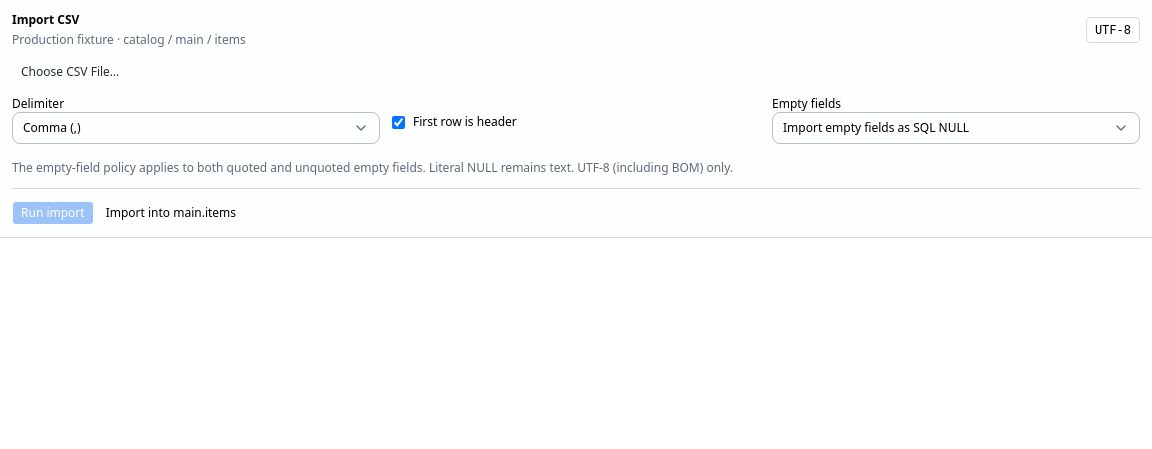
CSV import workflow › allows import after bounded preview without claiming a total row count
Click the button "Choose CSV File…" at (70, 72), box [12,60,128,84]
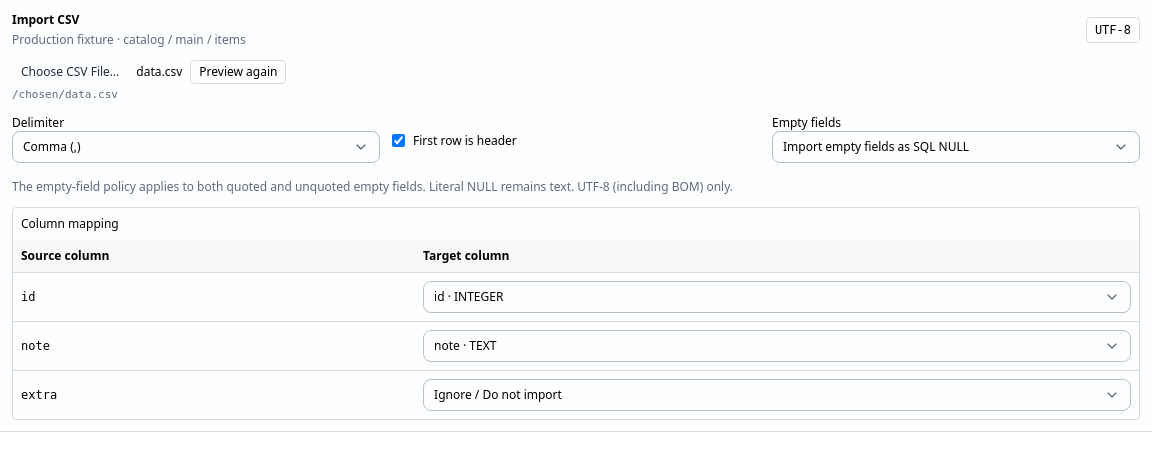
Expected: the text "Column mapping" is shown, [21,215,119,232]
